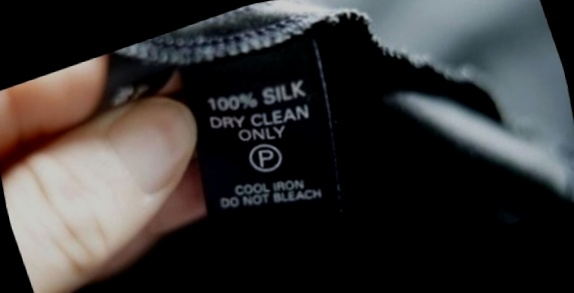dry_clean_any_solvent_except_trichloroethylene: (241, 133, 292, 181)
